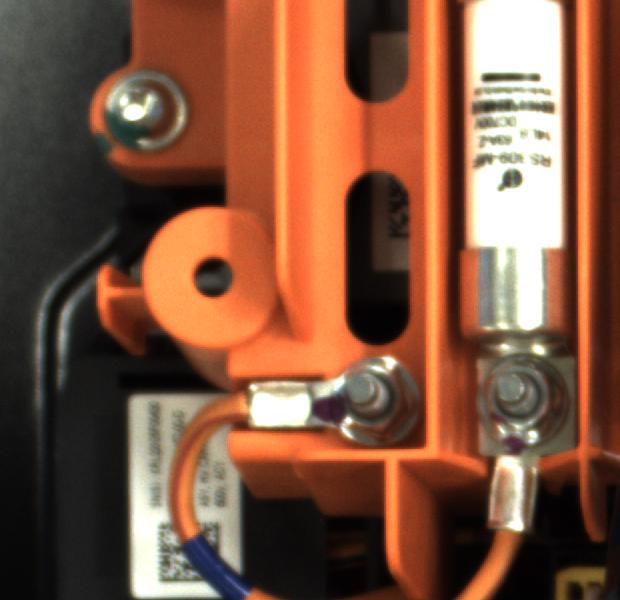screw_m: (81, 61, 206, 168)
screw_s: (470, 359, 570, 441), (330, 358, 414, 442)
